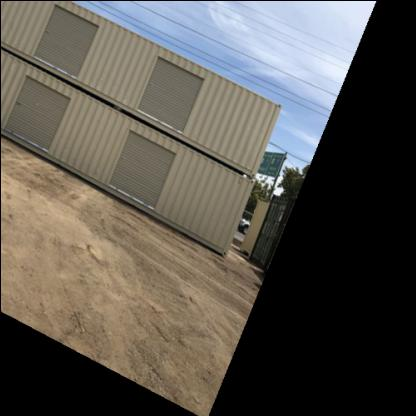Damage: (138, 70, 160, 90), (10, 90, 31, 108), (40, 16, 52, 38), (115, 154, 127, 162)
